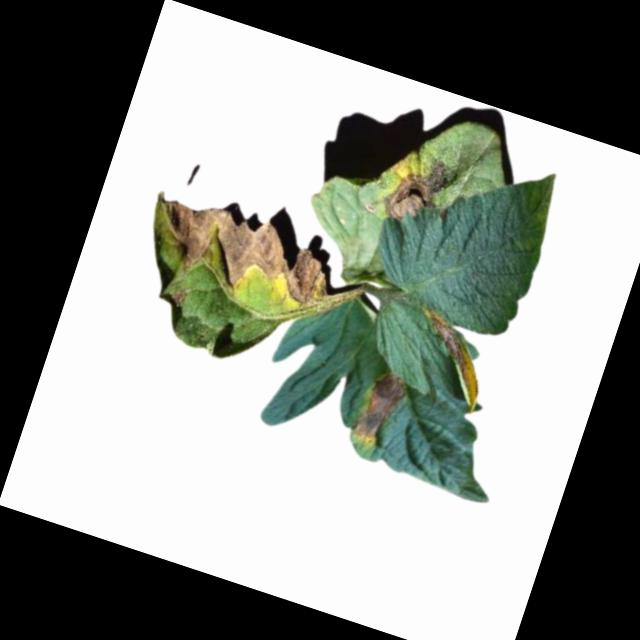Early_blight: (128, 183, 342, 317), (403, 313, 494, 405), (381, 149, 460, 235), (347, 368, 409, 451), (167, 285, 191, 310)
